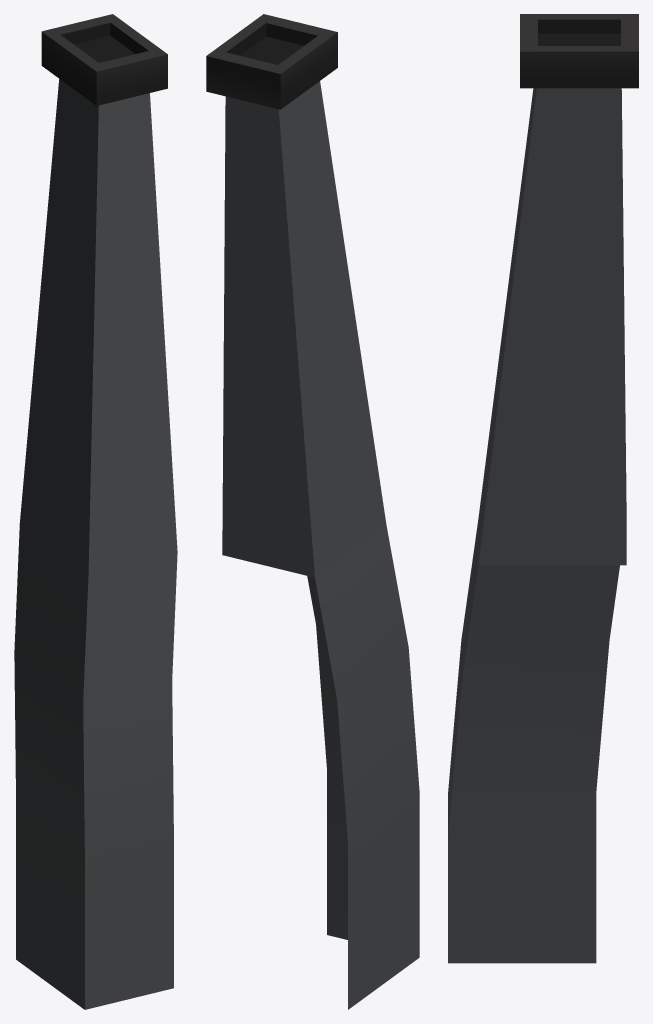
Rendered from fanasty_mod_lar_chimney01.fbx.
3 views of the same model, side by side, from view 1: azimuth 30°, elevation 25°; view 2: azimuth 150°, elevation 25°; view 3: azimuth 270°, elevation 25° (orthographic). The views are drawn at different scales.
Parts seen in each view (by area): view 1: large_chimney_01; view 2: large_chimney_01; view 3: large_chimney_01.
Part boxes in pixels (x1=…): large_chimney_01: x1=14, y1=14, x2=177, y2=1009; large_chimney_01: x1=206, y1=14, x2=419, y2=1009; large_chimney_01: x1=448, y1=14, x2=638, y2=963.
Size of the model in its own units: 1.9 by 14.03 by 2.49.
